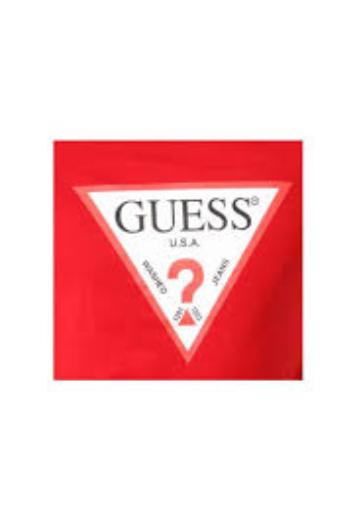GUESS: (70, 178, 286, 365)
